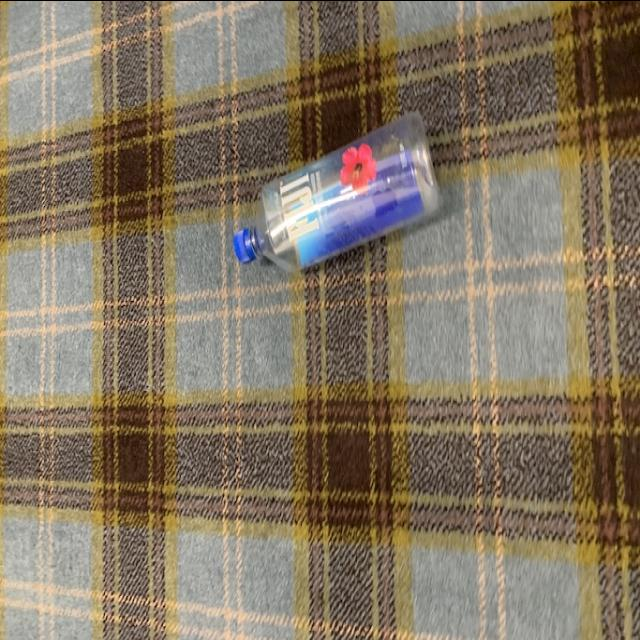litter: (233, 105, 450, 274)
